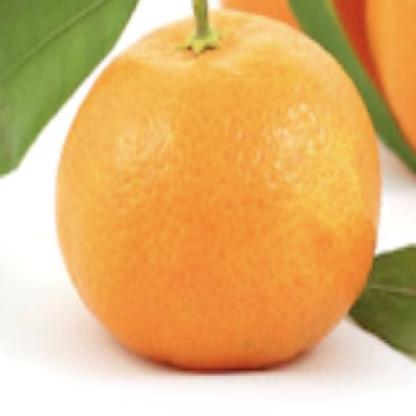fresh: (53, 1, 383, 370)
